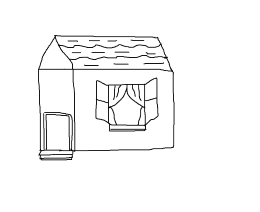door: (36, 108, 77, 156)
open_window: (94, 78, 159, 131)
roof: (34, 32, 176, 73)
wall: (69, 66, 178, 153)
